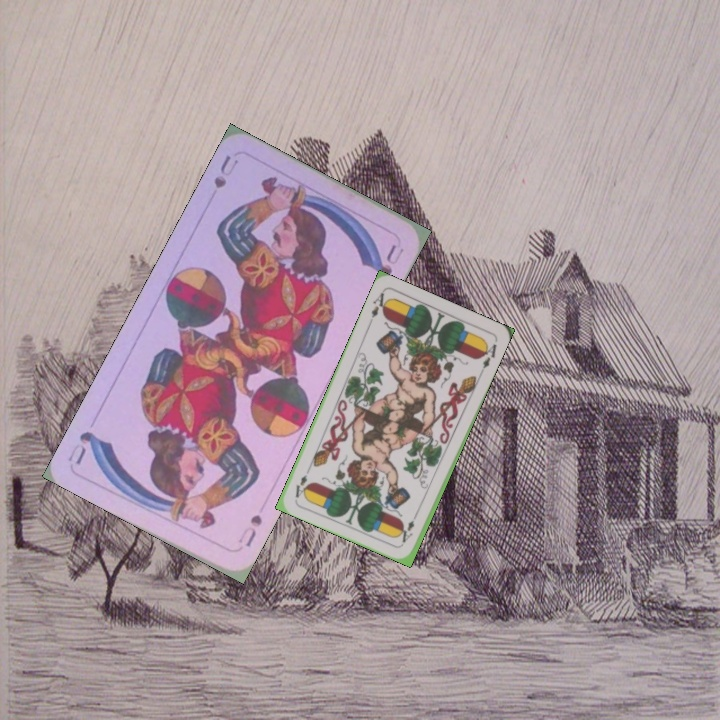EA: (365, 288, 391, 327), (398, 508, 419, 546)
SU: (210, 150, 242, 192), (234, 510, 265, 550)
